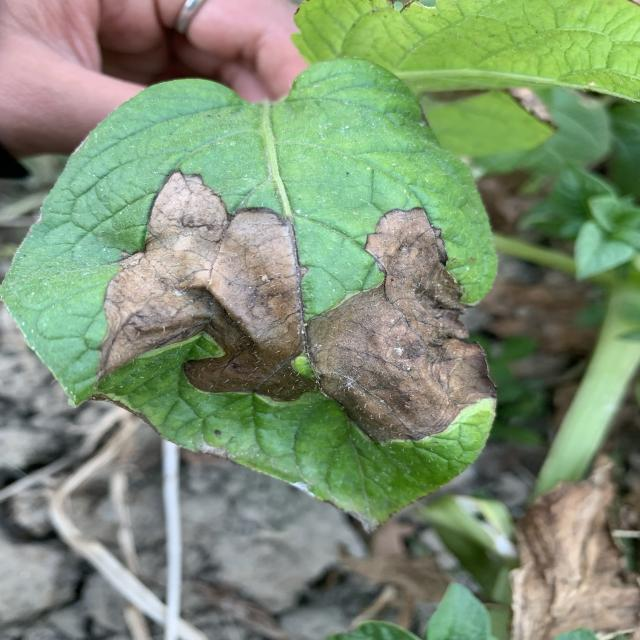lateblight: (97, 171, 495, 441), (512, 456, 638, 640)
